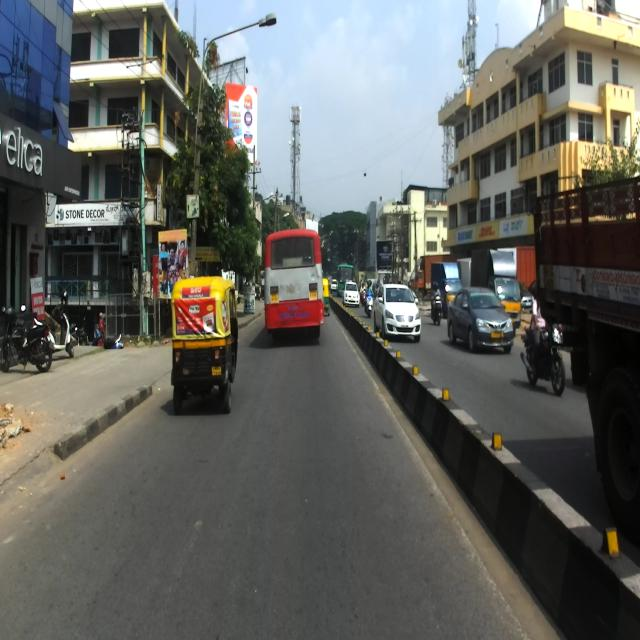auto ahead at: (168, 274, 240, 412), (260, 230, 330, 346)
